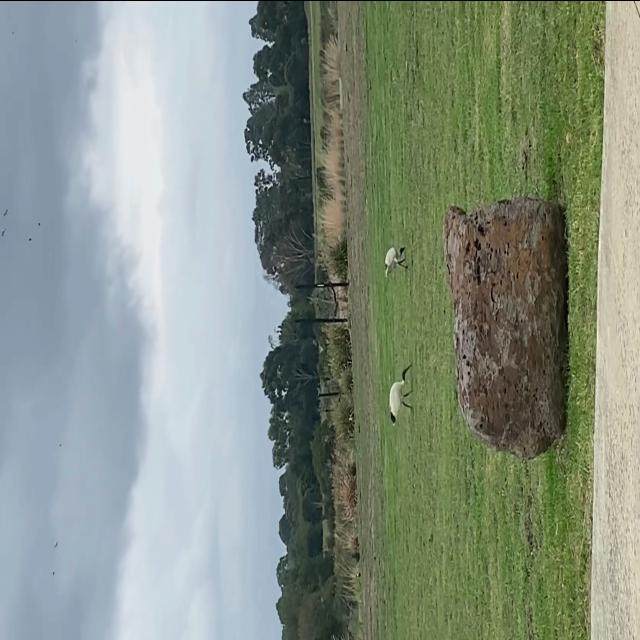Birds-Ibis: (383, 358, 418, 428), (379, 238, 414, 282)
